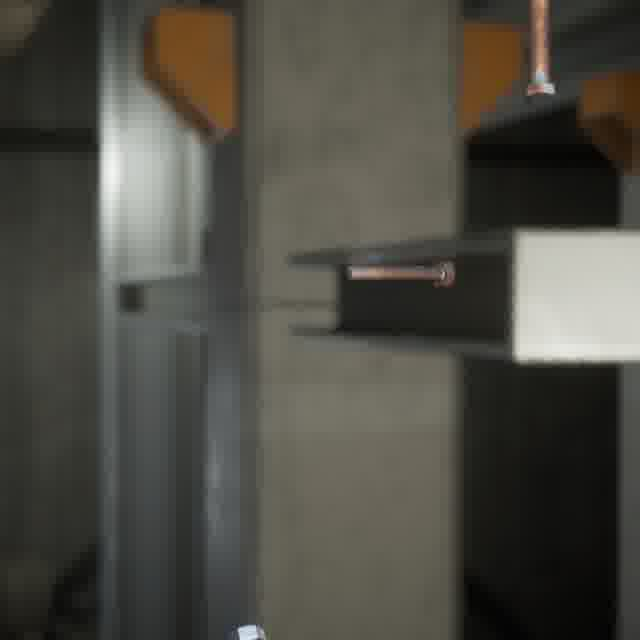bolt: (521, 0, 560, 110), (342, 257, 459, 291)
